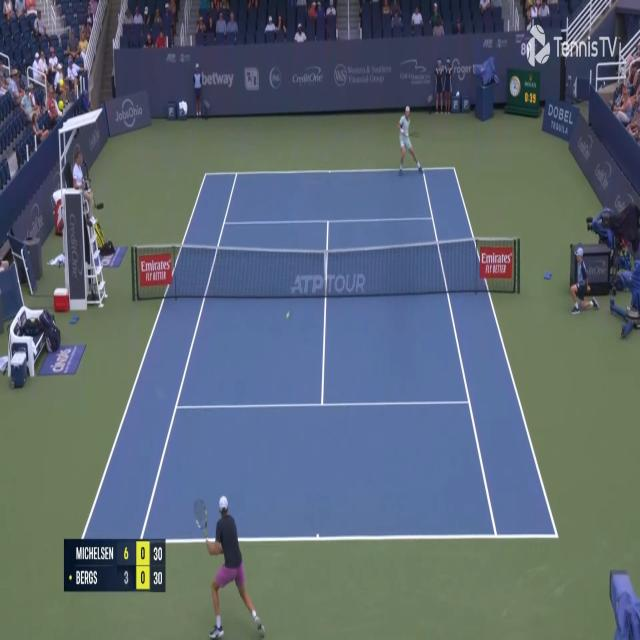tennis-player: (198, 493, 269, 639), (397, 100, 425, 174)
